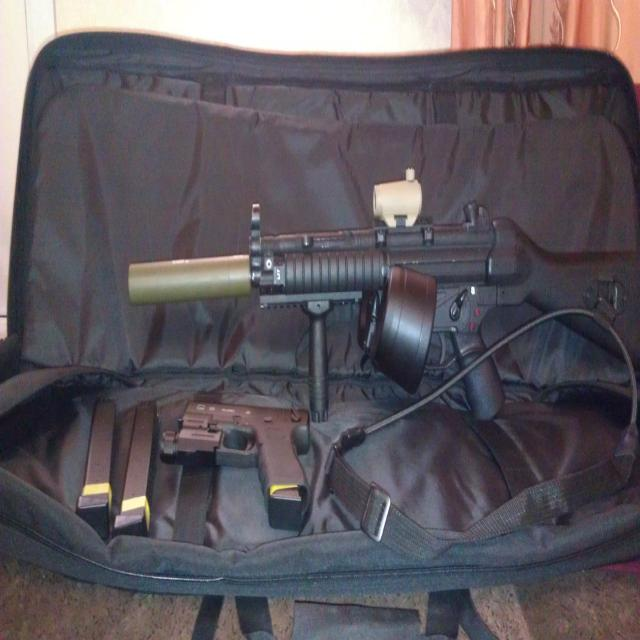firearm: (128, 162, 640, 427)
pistol: (158, 394, 310, 534)
